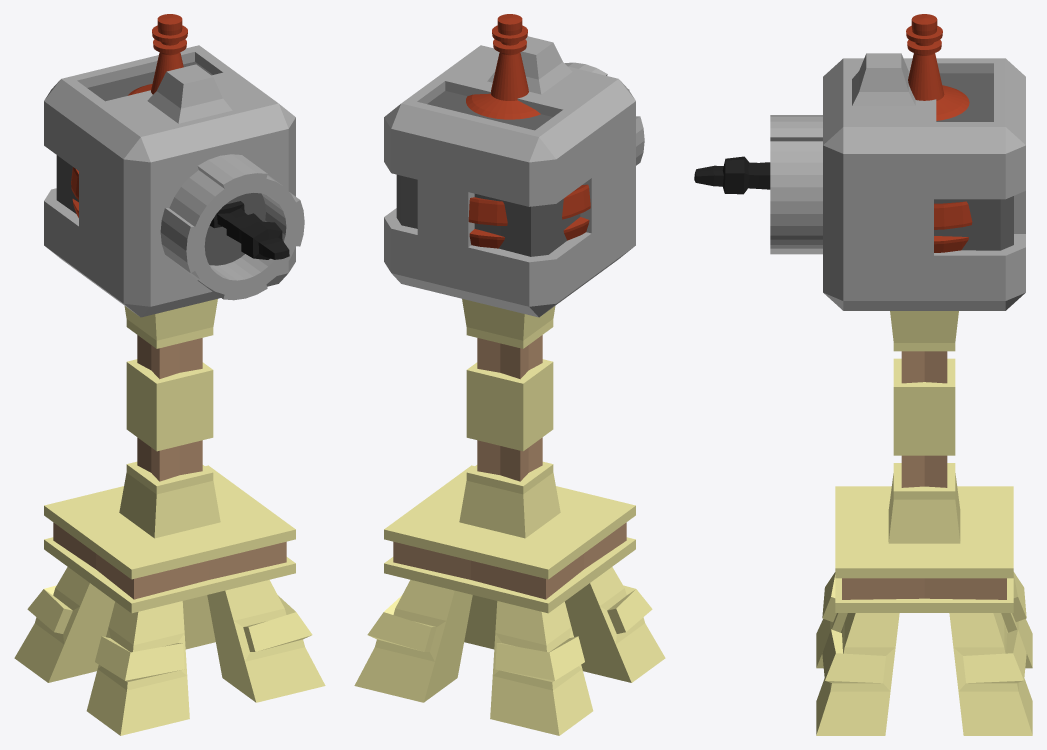
Rendered from turret.glb.
3 views of the same model, side by side, from view 1: azimuth 30°, elevation 25°; view 2: azimuth 150°, elevation 25°; view 3: azimuth 270°, elevation 25° (orthographic).
Visible parts, largest first — view 1: TurretBody, TurretHead, Enemy; view 2: TurretBody, TurretHead, Enemy; view 3: TurretHead, TurretBody, Enemy.
Boxes of the visible parts, bbox=[...] form: TurretBody: bbox=[14, 299, 325, 735]; TurretHead: bbox=[44, 45, 304, 317]; Enemy: bbox=[71, 14, 289, 259]; TurretBody: bbox=[354, 299, 665, 735]; TurretHead: bbox=[384, 36, 644, 317]; Enemy: bbox=[466, 14, 590, 248]; TurretHead: bbox=[770, 53, 1025, 310]; TurretBody: bbox=[816, 311, 1032, 735]; Enemy: bbox=[694, 14, 972, 252].
Size of the model in its own units: 2.38 by 7.25 by 3.34.
1 material, 1 textured.
